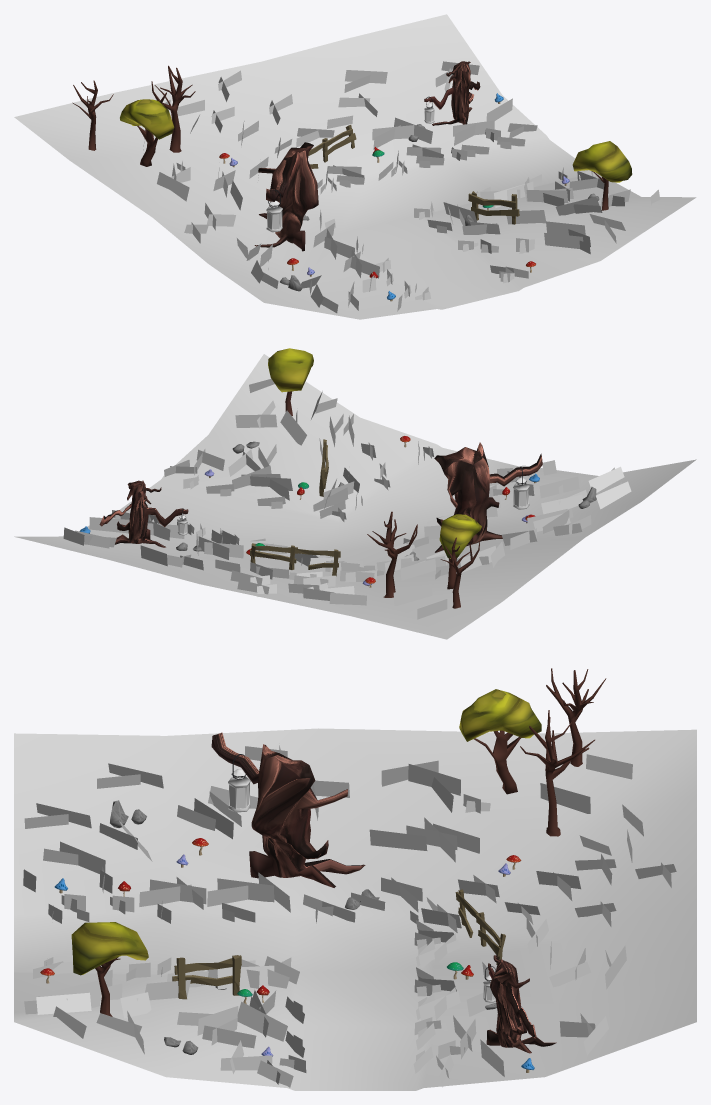
Rendered from environment2 (2).fbx.
3 views of the same model, one above another, from view 1: azimuth 30°, elevation 25°; view 2: azimuth 150°, elevation 25°; view 3: azimuth 270°, elevation 25° (orthographic). The views are drawn at different scales.
Visible parts, largest first — view 1: zemin2, Cylinder.013, Sphere.003, Cylinder.020, Sphere.002, Plane.095, LowPolyFence_02.001, LowPolyFence_01.001, Plane.002, Plane.084; view 2: zemin2, Cylinder.013, Cylinder.020, Sphere.003, Sphere.002, LowPolyFence_01.001, Plane.095, Plane.002, Plane.752, Plane.021, Plane.717, Plane.688 (+3 smaller); view 3: zemin2, Cylinder.013, Cylinder.020, Sphere.002, Sphere.003, Plane.095, LowPolyFence_02.001, Plane.002, LowPolyFence_01.001, Cube.013, Plane.766, Plane.781 (+9 smaller).
Part boxes in pixels (left/top/right/bottom): zemin2: left=14, top=14, right=696, bottom=319; Cylinder.013: left=254, top=142, right=318, bottom=251; Sphere.003: left=572, top=141, right=632, bottom=182; Cylinder.020: left=424, top=61, right=480, bottom=125; Sphere.002: left=120, top=99, right=174, bottom=139; Plane.095: left=151, top=65, right=195, bottom=152; LowPolyFence_02.001: left=468, top=191, right=519, bottom=224; LowPolyFence_01.001: left=308, top=125, right=356, bottom=168; Plane.002: left=72, top=80, right=113, bottom=150; Plane.084: left=544, top=233, right=583, bottom=248; zemin2: left=14, top=354, right=696, bottom=639; Cylinder.013: left=434, top=442, right=542, bottom=552; Cylinder.020: left=99, top=480, right=188, bottom=547; Sphere.003: left=268, top=348, right=313, bottom=392; Sphere.002: left=439, top=514, right=481, bottom=558; LowPolyFence_01.001: left=250, top=543, right=340, bottom=576; Plane.095: left=367, top=511, right=417, bottom=597; Plane.002: left=440, top=537, right=479, bottom=608; Plane.752: left=235, top=414, right=277, bottom=427; Plane.021: left=393, top=583, right=432, bottom=605; Plane.717: left=539, top=476, right=579, bottom=498; Plane.688: left=596, top=481, right=631, bottom=509; zemin2: left=14, top=728, right=696, bottom=1090; Cylinder.013: left=211, top=732, right=365, bottom=887; Cylinder.020: left=486, top=955, right=556, bottom=1053; Sphere.002: left=459, top=689, right=541, bottom=741; Sphere.003: left=71, top=922, right=148, bottom=975; Plane.095: left=520, top=710, right=594, bottom=836; LowPolyFence_02.001: left=172, top=955, right=241, bottom=999; Plane.002: left=546, top=668, right=606, bottom=766; LowPolyFence_01.001: left=455, top=889, right=505, bottom=965; Cube.013: left=474, top=730, right=521, bottom=794; Plane.766: left=36, top=992, right=91, bottom=1014; Plane.781: left=237, top=1001, right=287, bottom=1041.
Bounding box in the file's own units: 2250 × 591 × 2250.
